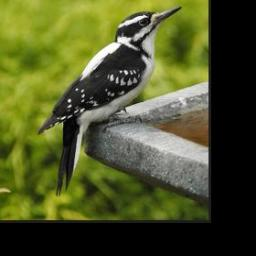Woodpecker: (38, 0, 184, 197)
